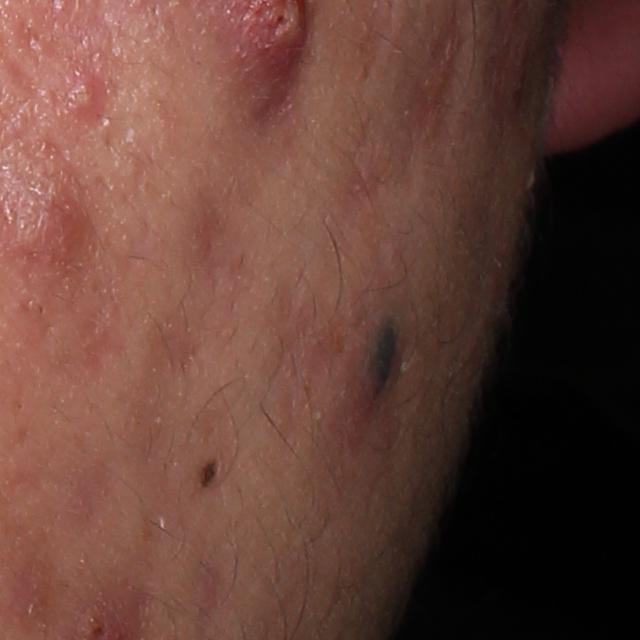nevus: (358, 310, 404, 404), (196, 457, 221, 487)
papule: (13, 171, 93, 270), (68, 69, 113, 127)
